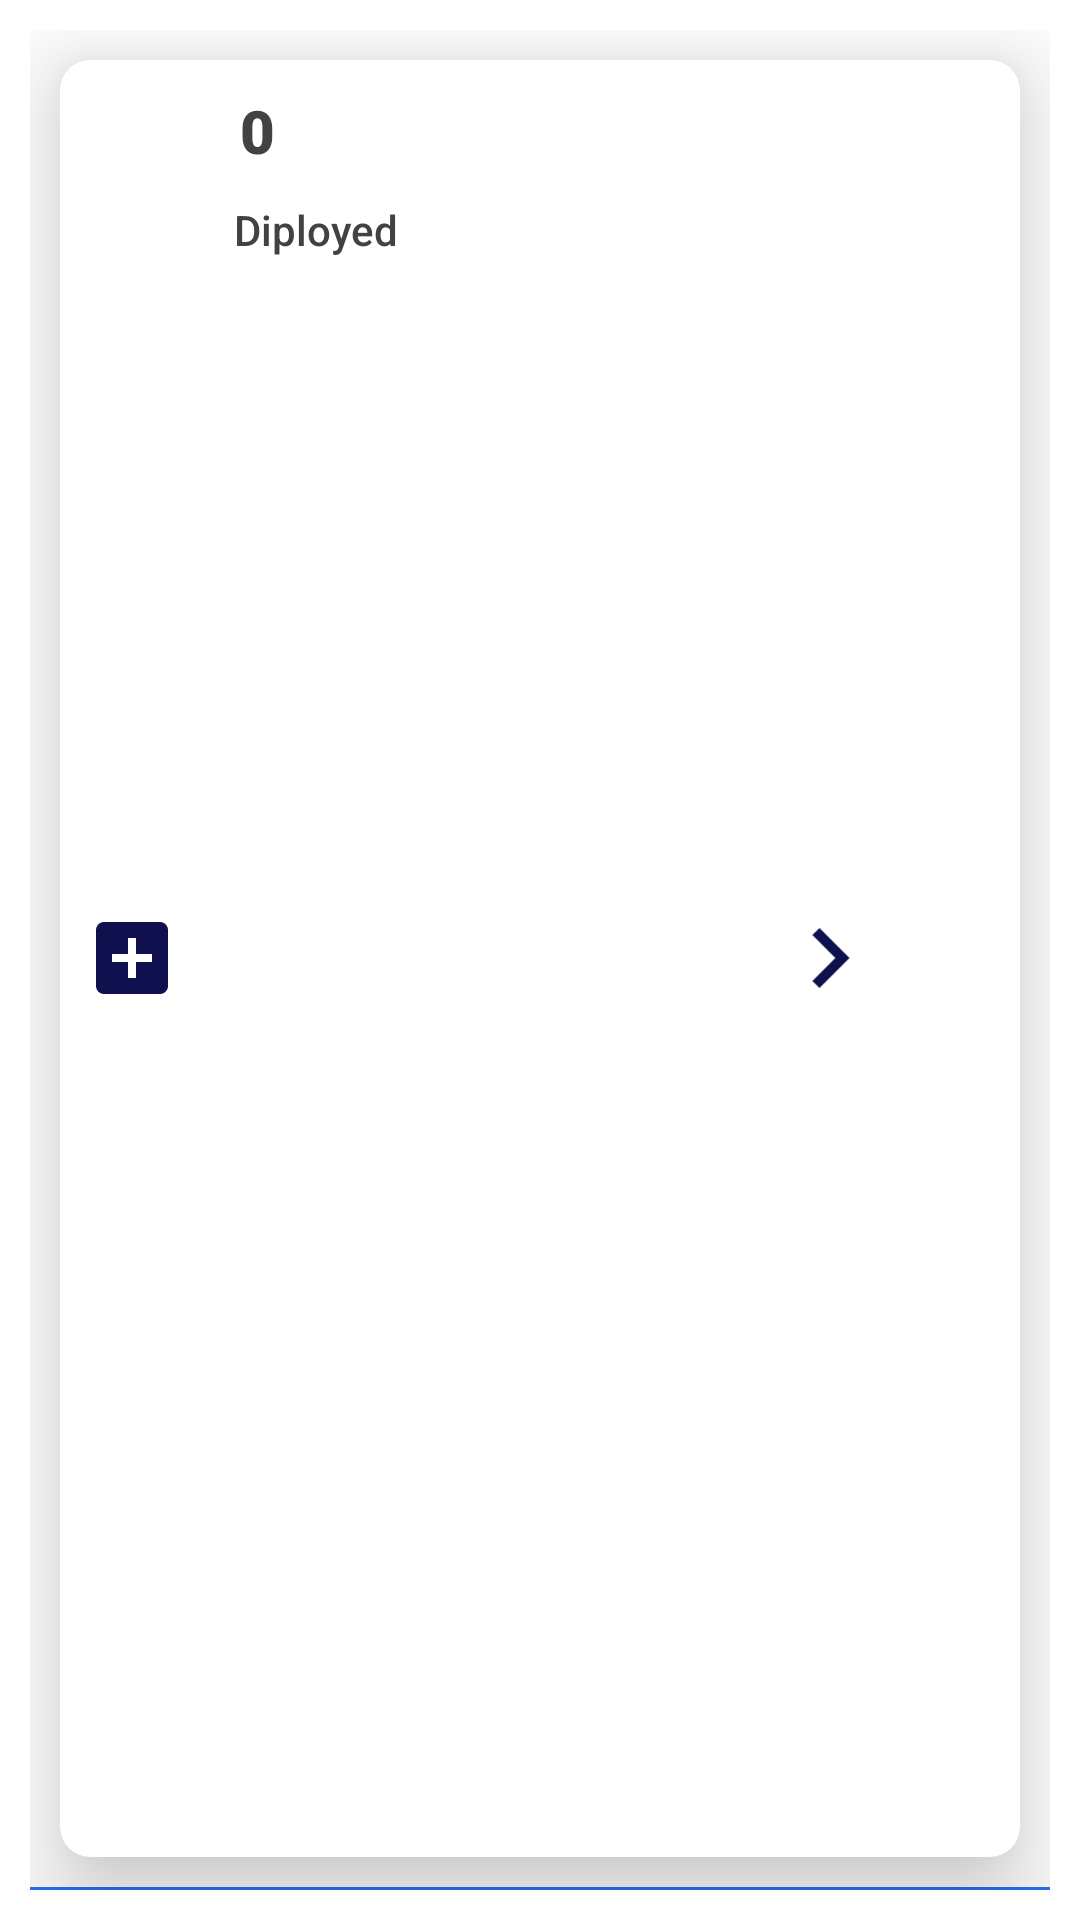

Named icons in this screenshot (1080px×1920px) and their centers, [x,y]:
add box: [132,958]
chevron right: [831,958]
